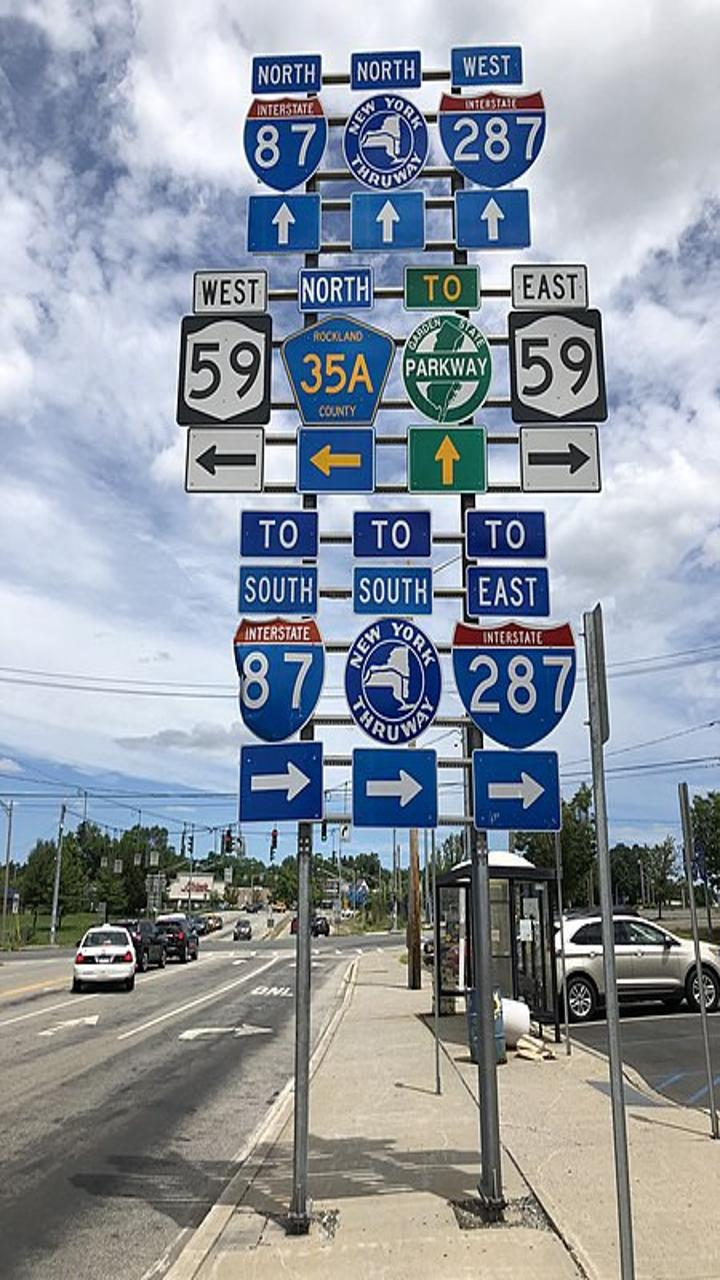Traffic sign: (208, 739, 343, 837), (331, 744, 466, 842), (463, 748, 598, 846), (386, 413, 521, 511), (502, 411, 637, 509), (282, 413, 417, 511), (152, 412, 287, 510), (225, 181, 360, 279), (323, 179, 458, 277), (436, 172, 571, 270)
vehicle: (71, 916, 148, 1007), (227, 905, 256, 949)
